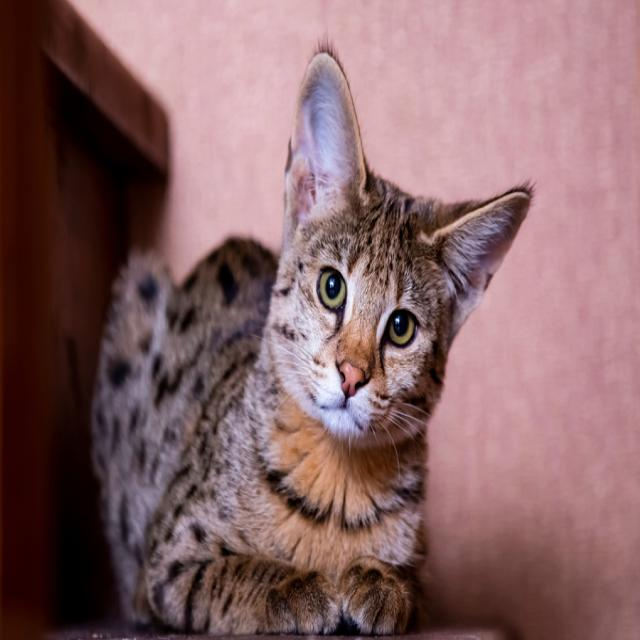Savannah: (79, 41, 539, 640)
